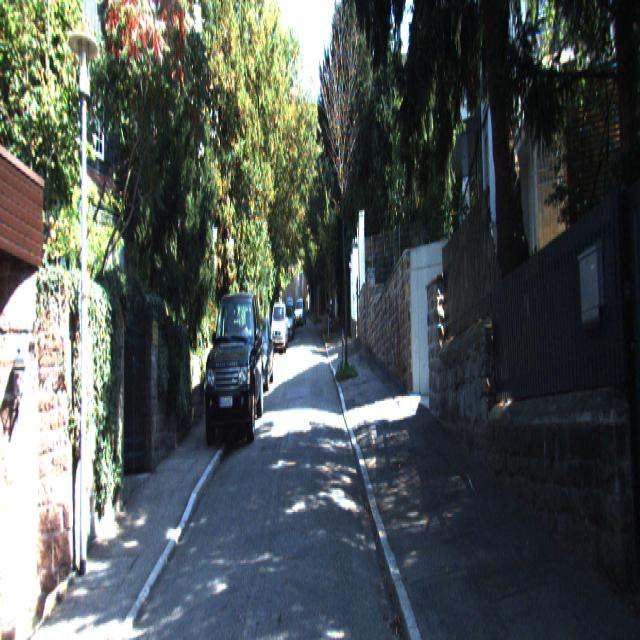Car: (200, 282, 265, 455), (240, 314, 275, 396), (270, 302, 288, 356)
DontCare: (290, 294, 309, 326)
